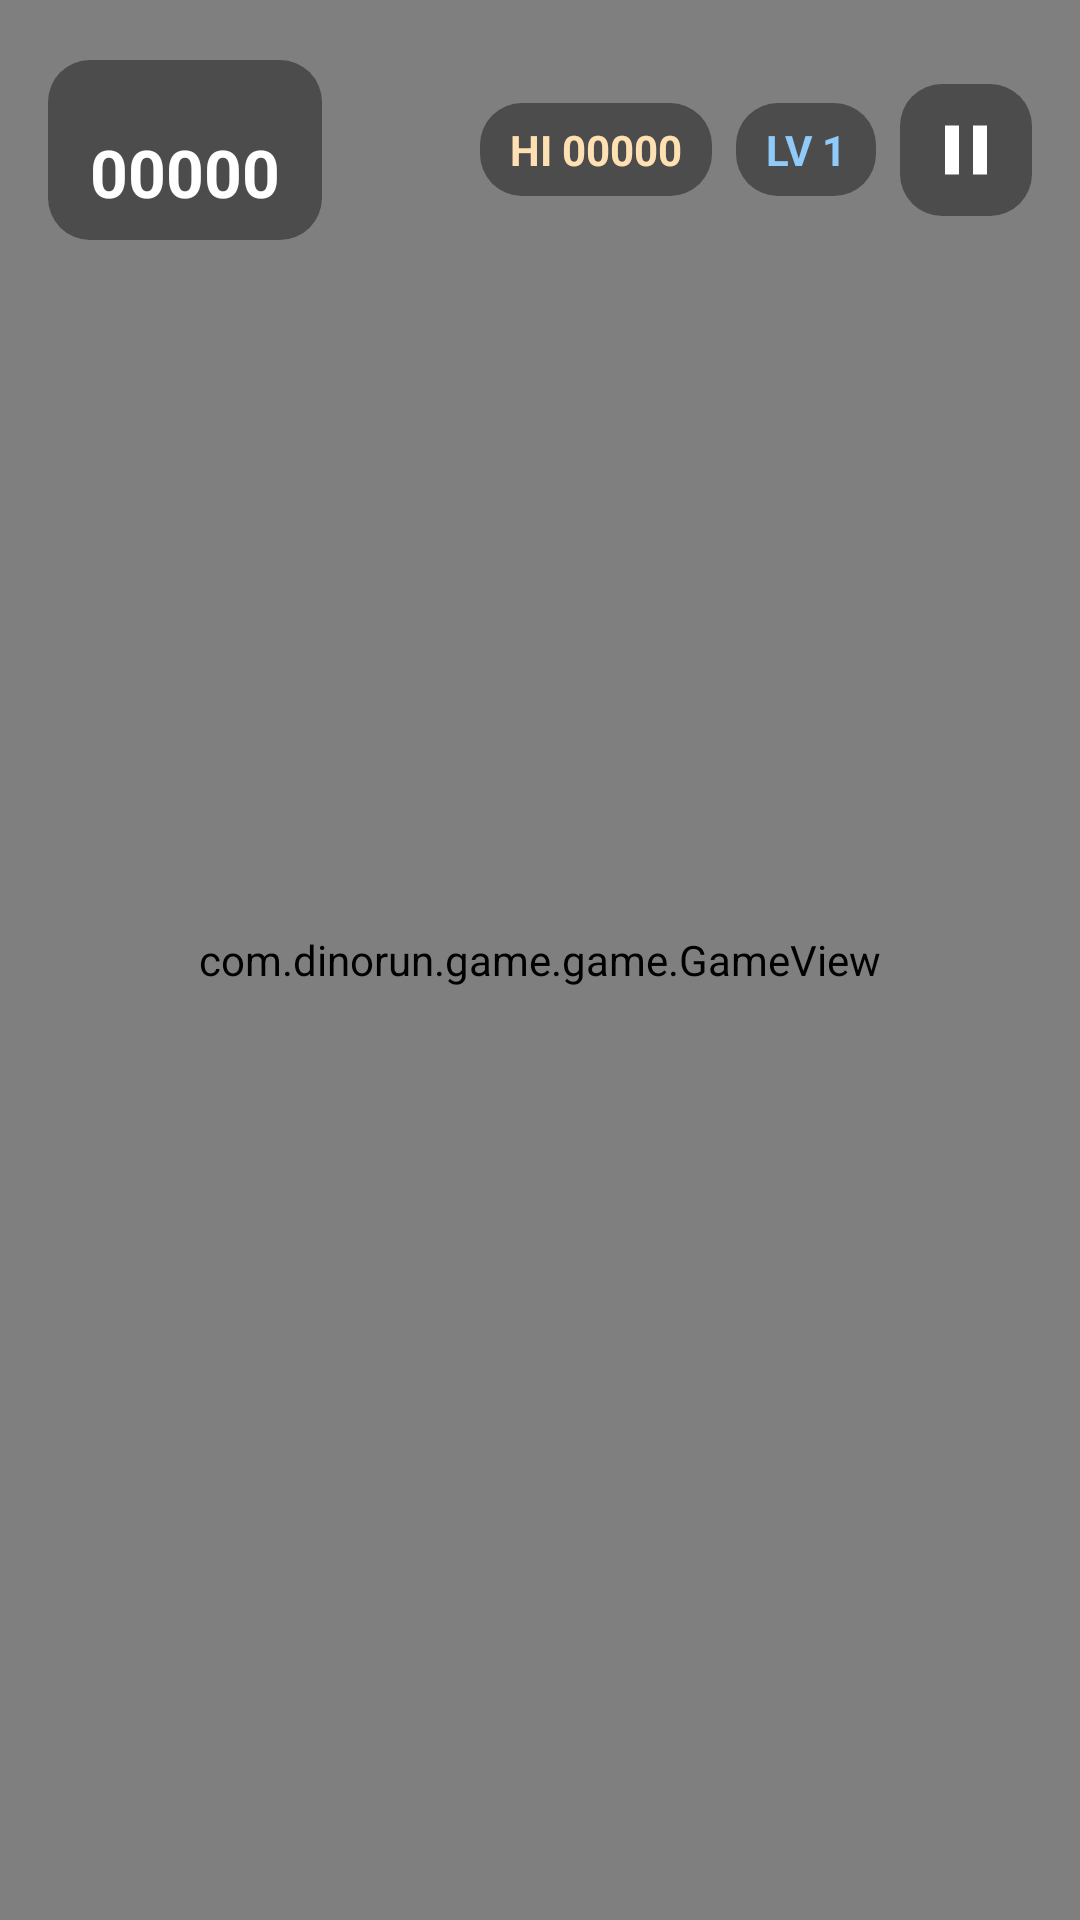

Named icons in this screenshot (1080 x 1920) and their bounding boxes, (x1, y1, x2, y2):
Paused: (900, 84, 1032, 216)
